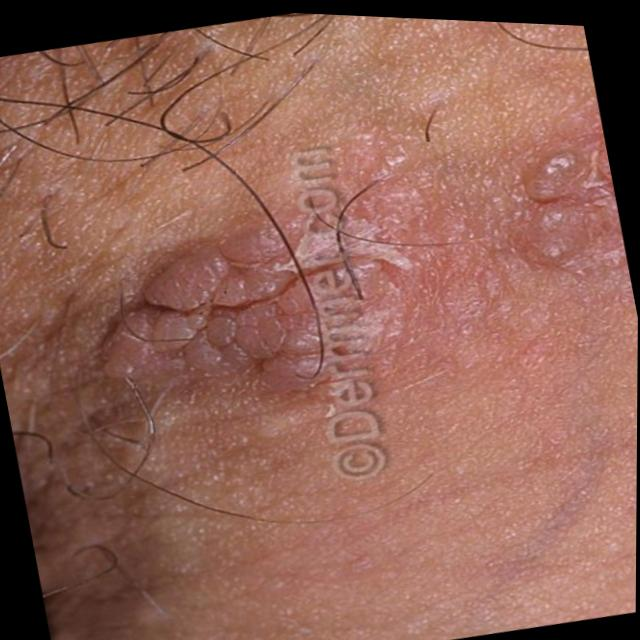Shingles: (56, 170, 443, 430), (489, 108, 626, 271)
